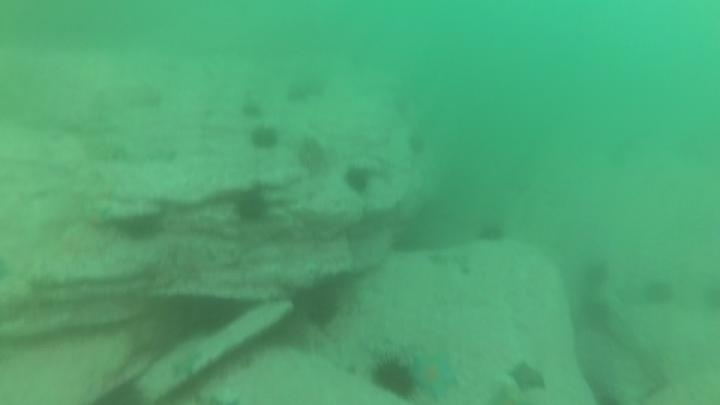echinus: (291, 281, 343, 330), (368, 354, 419, 401), (116, 210, 166, 245), (293, 134, 330, 177), (231, 188, 272, 226), (283, 75, 326, 107), (577, 296, 614, 333), (640, 276, 677, 309), (341, 163, 375, 198), (579, 258, 612, 291), (247, 123, 282, 154), (473, 218, 509, 248), (404, 129, 429, 159), (238, 98, 266, 122)
starfish: (406, 349, 461, 403), (504, 358, 549, 397), (164, 343, 206, 381)
